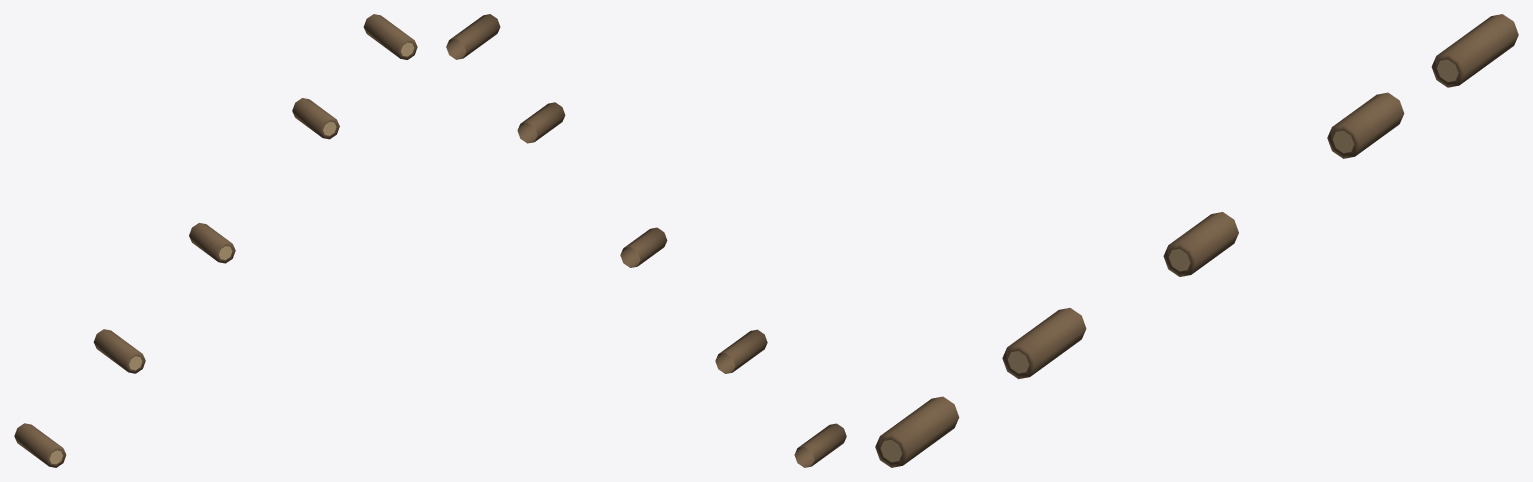
File: rpgpp_ag_roof_support_01_9x4x3_end_01b_half_a.fbx
3 views of the same model, side by side, from view 1: azimuth 30°, elevation 25°; view 2: azimuth 150°, elevation 25°; view 3: azimuth 330°, elevation 25° (orthographic). The views are drawn at different scales.
Visible parts, largest first — view 1: rpgpp_ag_roof_support_01_9x4x3_end_01b_half_a; view 2: rpgpp_ag_roof_support_01_9x4x3_end_01b_half_a; view 3: rpgpp_ag_roof_support_01_9x4x3_end_01b_half_a.
Boxes of the visible parts, left/top/right/bottom form: rpgpp_ag_roof_support_01_9x4x3_end_01b_half_a: left=14, top=14, right=417, bottom=467; rpgpp_ag_roof_support_01_9x4x3_end_01b_half_a: left=446, top=14, right=846, bottom=467; rpgpp_ag_roof_support_01_9x4x3_end_01b_half_a: left=875, top=14, right=1518, bottom=467.
Bounding box in the file's own units: 4.66 × 4.16 × 0.7417.
